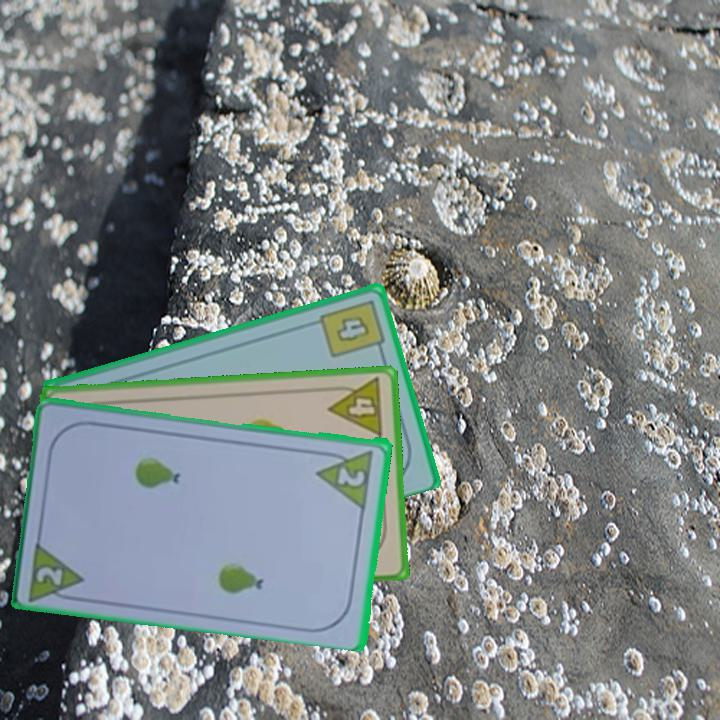2p: (25, 536, 89, 604), (314, 446, 377, 510)
4b: (316, 296, 387, 360)
4p: (324, 375, 386, 440)
